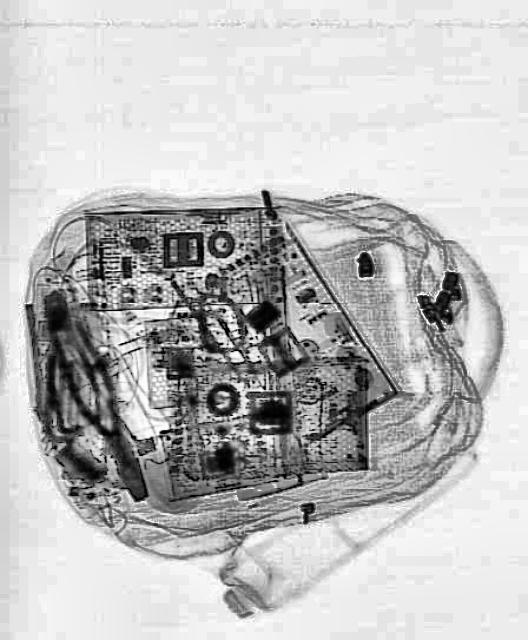Pliers: (41, 311, 163, 511)
